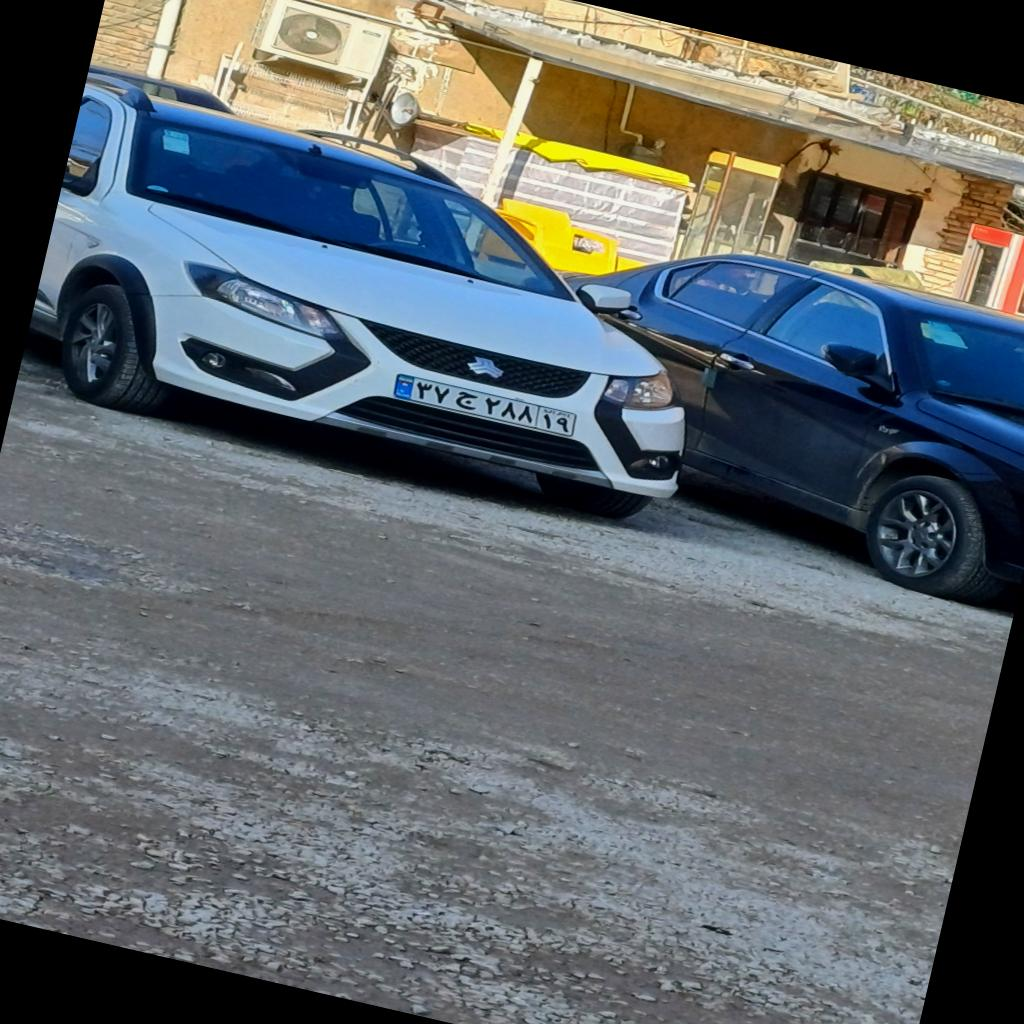Plates: (394, 373, 578, 438)
